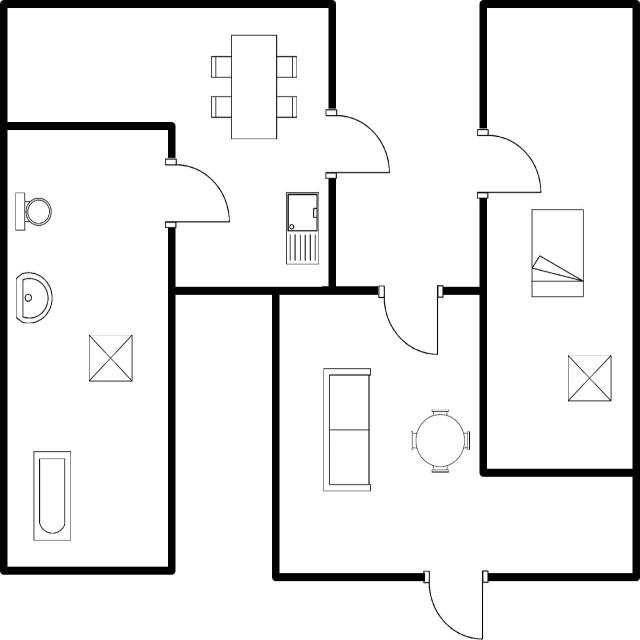bed: (525, 203, 589, 303)
coffee_table: (84, 330, 138, 388), (562, 349, 616, 407)
dining_table: (208, 29, 302, 144)
large_sink: (12, 189, 52, 235)
large_sofa: (318, 362, 376, 498)
round_table: (406, 403, 474, 478)
sink: (281, 188, 321, 270)
small_sink: (11, 266, 56, 326)
tub: (28, 447, 76, 545)
